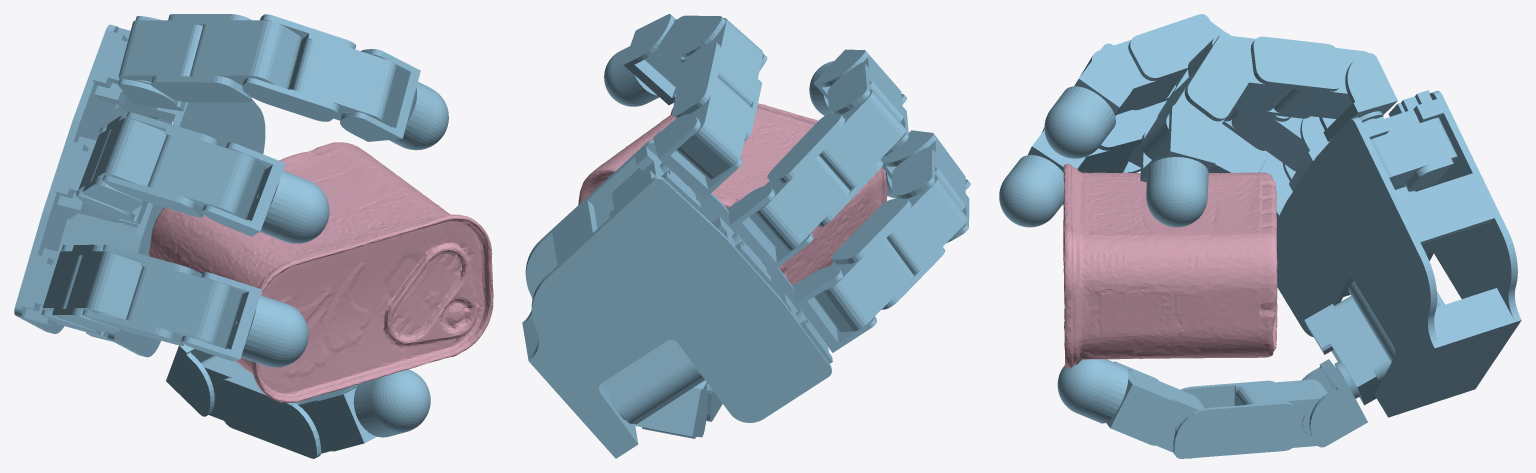
3 views of the same model, side by side, from view 1: azimuth 30°, elevation 25°; view 2: azimuth 150°, elevation 25°; view 3: azimuth 270°, elevation 25° (orthographic). The views are drawn at different scales.
Visible parts, largest first — view 1: world, potted_meat_can.stl; view 2: world, potted_meat_can.stl; view 3: world, potted_meat_can.stl.
Part boxes in pixels (x1=…): world: x1=14, y1=14, x2=448, y2=458; potted_meat_can.stl: x1=149, y1=142, x2=493, y2=403; world: x1=522, y1=14, x2=970, y2=458; potted_meat_can.stl: x1=578, y1=103, x2=887, y2=286; world: x1=999, y1=14, x2=1521, y2=458; potted_meat_can.stl: x1=1063, y1=164, x2=1277, y2=368.
Size of the model in its own units: 0.1607 by 0.173 by 0.2038.
